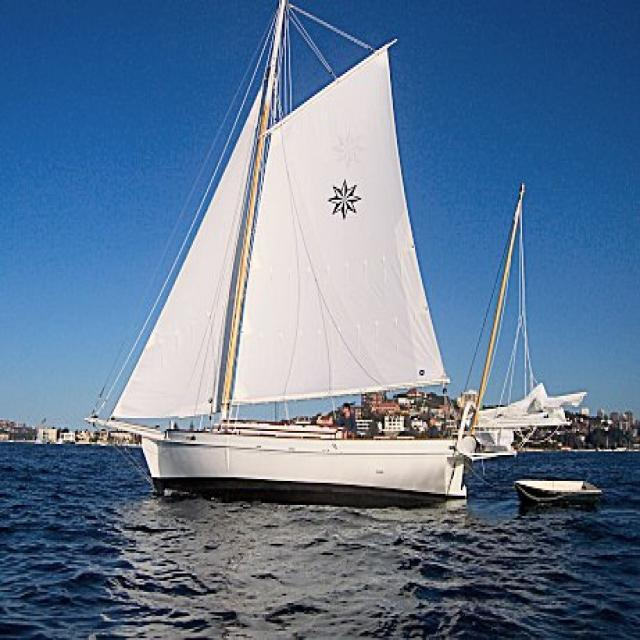Ship: (93, 9, 553, 510)
